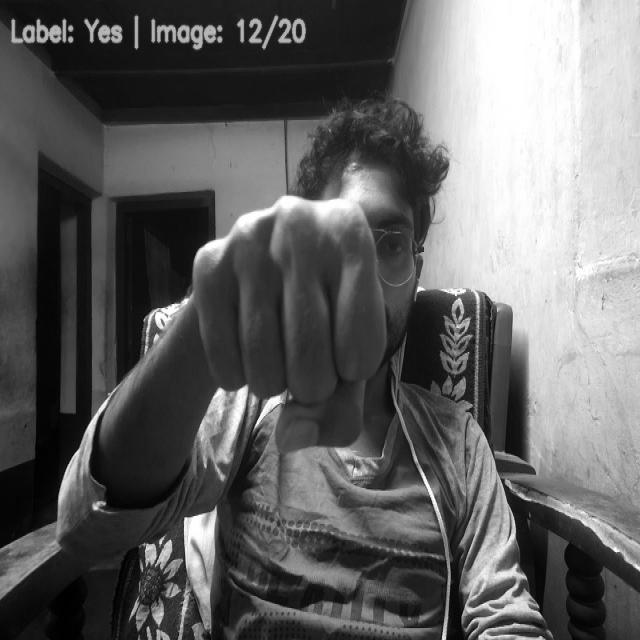Yes: (194, 192, 388, 457)
